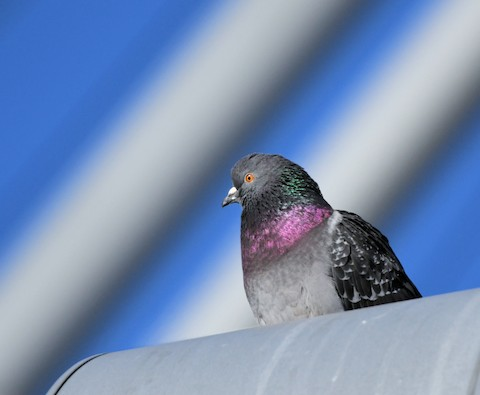pigeon: (219, 148, 443, 346)
